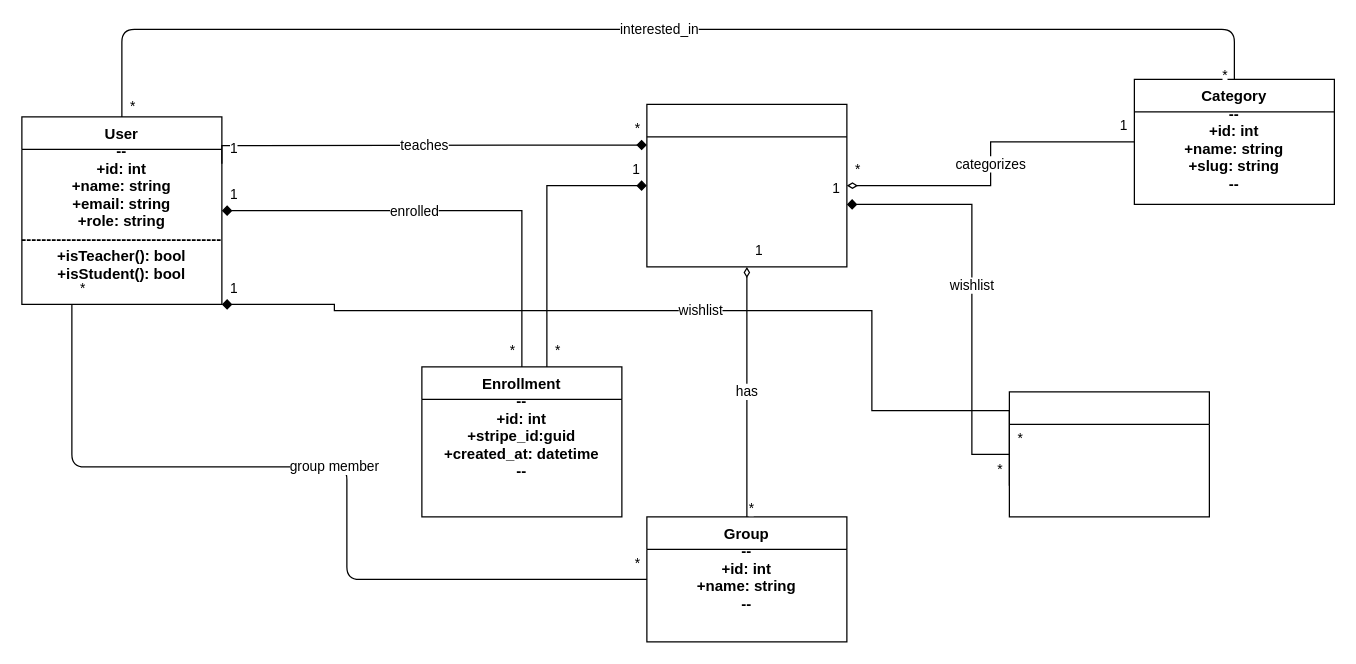
Some shapes in this 1356 by 664 pixel diagram are drawn without their labels. The shapes that lost their labels are listed below. From the top down, each one's box as (x1, y1, x2, y2) in pixels, then its label:
(646, 103, 847, 267): Course -- +id: int +title: string +price: decimal --
(1008, 391, 1209, 517): Wishlist -- +id: int +created_at: datetime --
